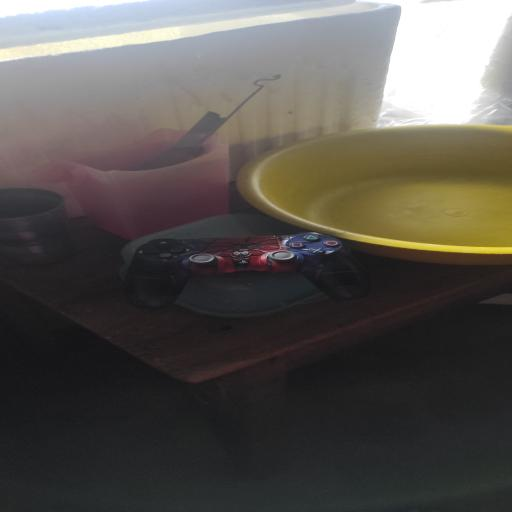ControlPlay4: (125, 232, 365, 307)
